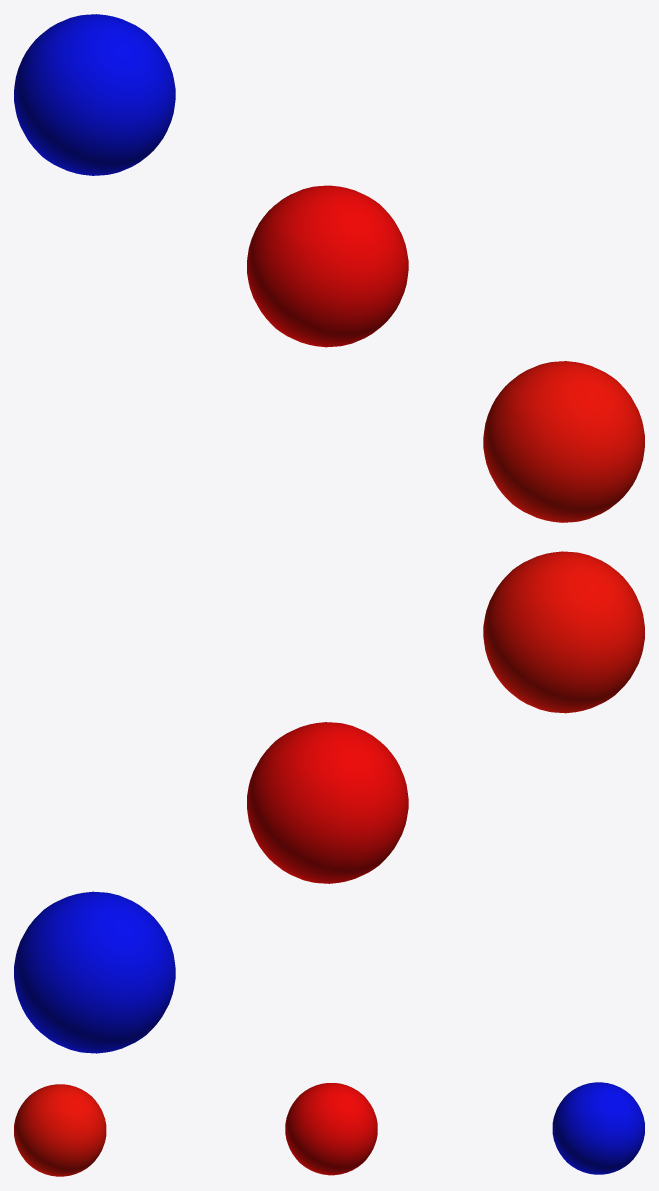
File: Caso(+,+,-).glb
3 views of the same model, one above another, from view 1: azimuth 30°, elevation 25°; view 2: azimuth 150°, elevation 25°; view 3: azimuth 270°, elevation 25° (orthographic). The views are drawn at different scales.
Visible parts, largest first — view 1: Carga 1, Carga 3, Carga 2; view 2: Carga 2, Carga 3, Carga 1; view 3: Carga 1, Carga 3, Carga 2.
Boxes of the visible parts, box(x1,y1,x2,y2) form: Carga 1: box(483, 361, 644, 522); Carga 3: box(14, 14, 175, 175); Carga 2: box(247, 185, 408, 347); Carga 2: box(247, 722, 408, 883); Carga 3: box(14, 891, 175, 1053); Carga 1: box(483, 551, 644, 713); Carga 1: box(14, 1084, 106, 1176); Carga 3: box(552, 1082, 644, 1174); Carga 2: box(285, 1083, 377, 1175).
Size of the model in its own units: 3.44 by 3.52 by 23.51.
